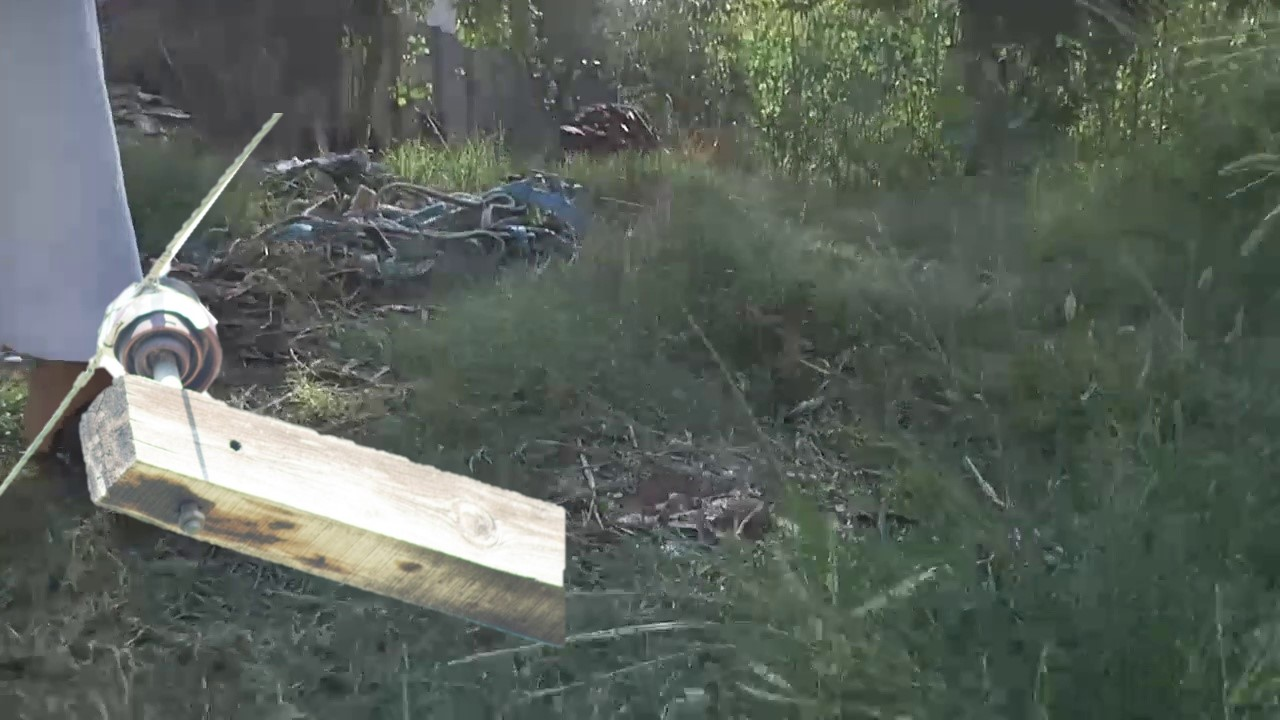defect_pin: (89, 271, 228, 397)
